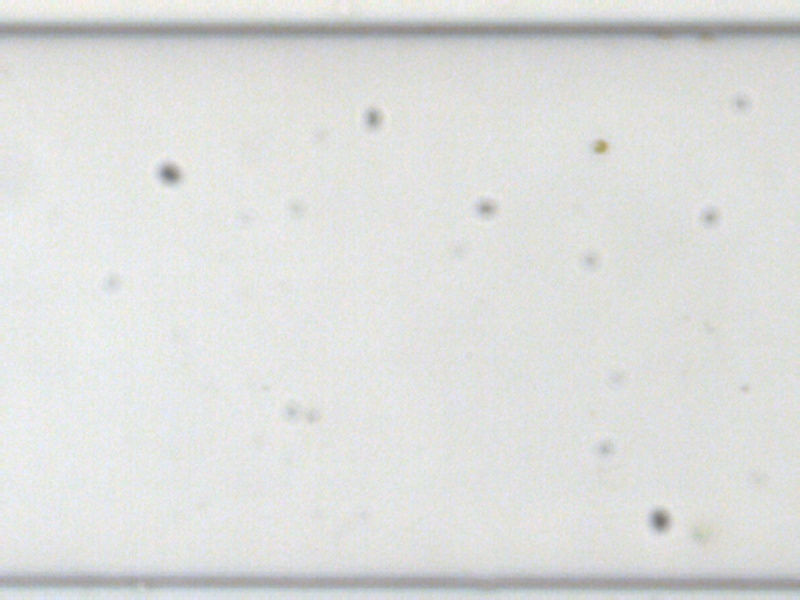Chlorella: (590, 136, 606, 153)
